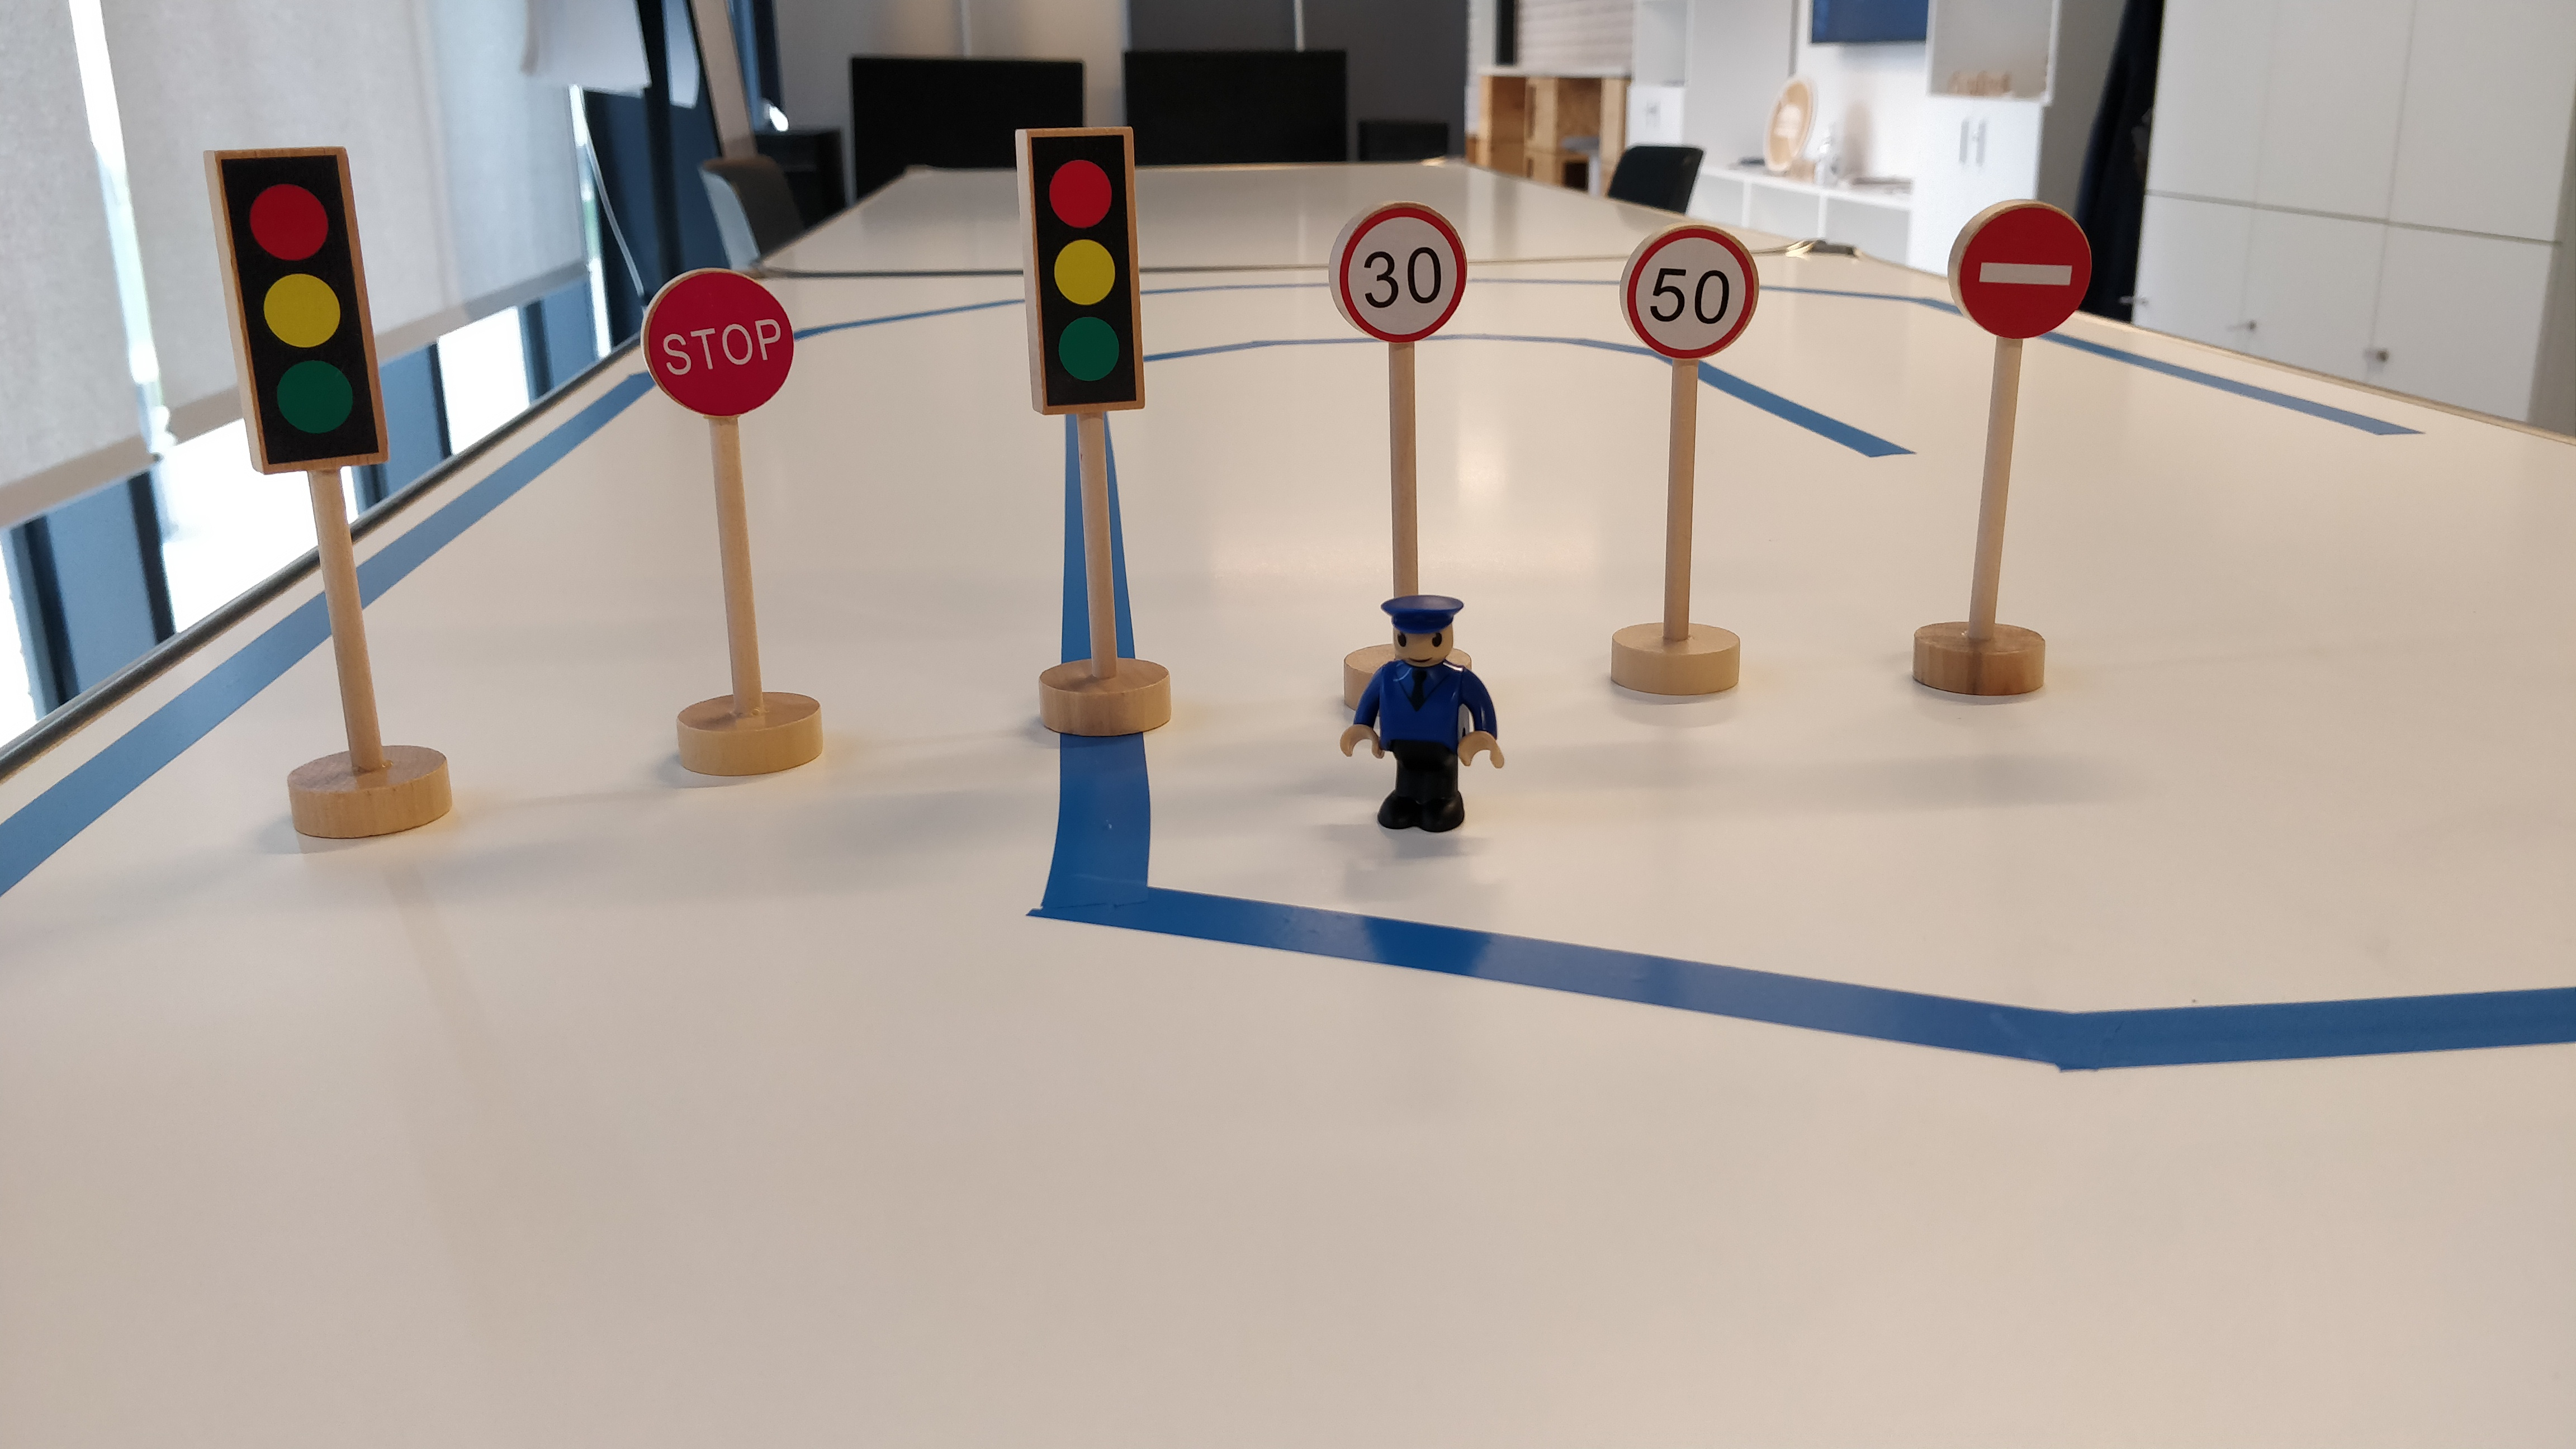Person: (1337, 583, 1509, 843)
Prohibition Sign: (1944, 196, 2092, 347)
Speed Limit 30: (1332, 197, 1465, 348)
Speed Limit 50: (1620, 221, 1761, 359)
Stop Sign: (638, 266, 794, 418)
Traffic Light: (196, 148, 394, 476), (1015, 126, 1151, 418)
